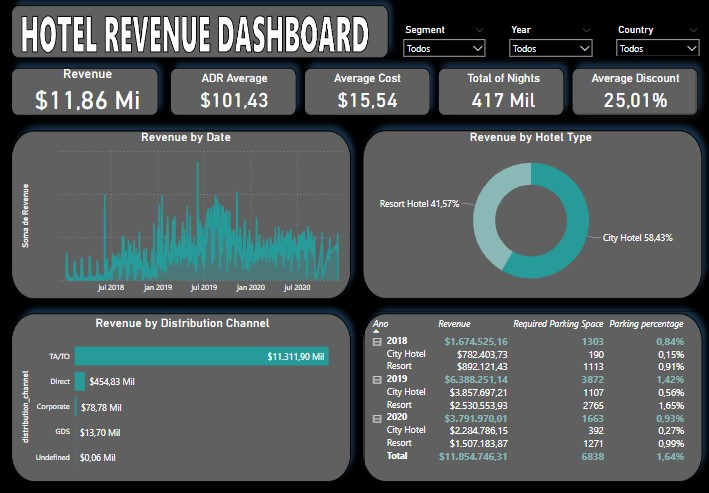

Layout of this report page (visuals, bound fields, positions):
{"tool":"powerbi","page":{"name":"Página 1","canvas":[1280,900],"ordinal":0},"visuals":[{"type":"card","title":"Revenue","fields":{"Values":["Sum(Consulta1.Revenue)"]},"box":[34.2,127.8,250.2,84.6],"z":0},{"type":"card","title":"ADR Average","fields":{"Values":["Avg(Consulta1.adr)"]},"box":[313.2,136.8,221.4,75.6],"z":1000},{"type":"card","title":"Average Cost","fields":{"Values":["Avg(Consulta1.Cost)"]},"box":[552.6,136.8,221.4,75.6],"z":2000},{"type":"card","title":"Total of Nights","fields":{"Values":["Consulta1.Medida"]},"box":[797.4,136.8,221.4,75.6],"z":3000},{"type":"card","title":"Average Discount","fields":{"Values":["Avg(Consulta1.Discount)"]},"box":[1038.6,136.8,214.2,75.6],"z":4000},{"type":"areaChart","title":"Revenue by Date","fields":{"Category":["Consulta1.Reservation_date"],"Y":["Sum(Consulta1.Revenue)"]},"box":[34.2,243,604.8,302.4],"z":5000},{"type":"slicer","fields":{"Values":["Consulta1.country"]},"box":[1101.6,46.8,169.2,63],"z":6000},{"type":"donutChart","title":"Revenue by Hotel Type","fields":{"Category":["Consulta1.hotel"],"Y":["Sum(Consulta1.Revenue)"]},"box":[646.2,243,622.8,302.4],"z":7000},{"type":"barChart","title":"Revenue by Distribution Channel","fields":{"Category":["Consulta1.distribution_channel"],"Y":["Sum(Consulta1.Revenue)"]},"box":[34.2,577.8,592.2,295.2],"z":8000},{"type":"pivotTable","fields":{"Values":["Sum(Consulta1.Revenue)","Sum(Consulta1.required_car_parking_spaces)","Consulta1.Parking percentage"],"Rows":["Consulta1.Reservation_date.Variation.Hierarquia de datas.Ano","Consulta1.hotel"]},"box":[657,568.8,622.8,313.2],"z":9000},{"type":"slicer","fields":{"Values":["Consulta1.Reservation_date.Variation.Hierarquia de datas.Ano"]},"box":[909,46.8,169.2,64.8],"z":10000},{"type":"slicer","fields":{"Values":["Consulta1.market_segment"]},"box":[718.2,46.8,167.4,64.8],"z":11000}]}

Visuals, with their boxes in screenshot pixels (x1, y1, x2, y2), scaled from the page's 1280x900 canvas onto the 709x493 screenshot:
"Revenue" card: crop(19, 70, 158, 116)
"ADR Average" card: crop(173, 75, 296, 116)
"Average Cost" card: crop(306, 75, 429, 116)
"Total of Nights" card: crop(442, 75, 564, 116)
"Average Discount" card: crop(575, 75, 694, 116)
"Revenue by Date" areaChart: crop(19, 133, 354, 299)
slicer - Consulta1.country: crop(610, 26, 704, 60)
"Revenue by Hotel Type" donutChart: crop(358, 133, 703, 299)
"Revenue by Distribution Channel" barChart: crop(19, 317, 347, 478)
pivotTable - Sum(Consulta1.Revenue) x Sum(Consulta1.required_car_parking_spaces): crop(364, 312, 708, 483)
slicer - Consulta1.Reservation_date.Variation.Hierarquia de datas.Ano: crop(504, 26, 597, 61)
slicer - Consulta1.market_segment: crop(398, 26, 491, 61)
